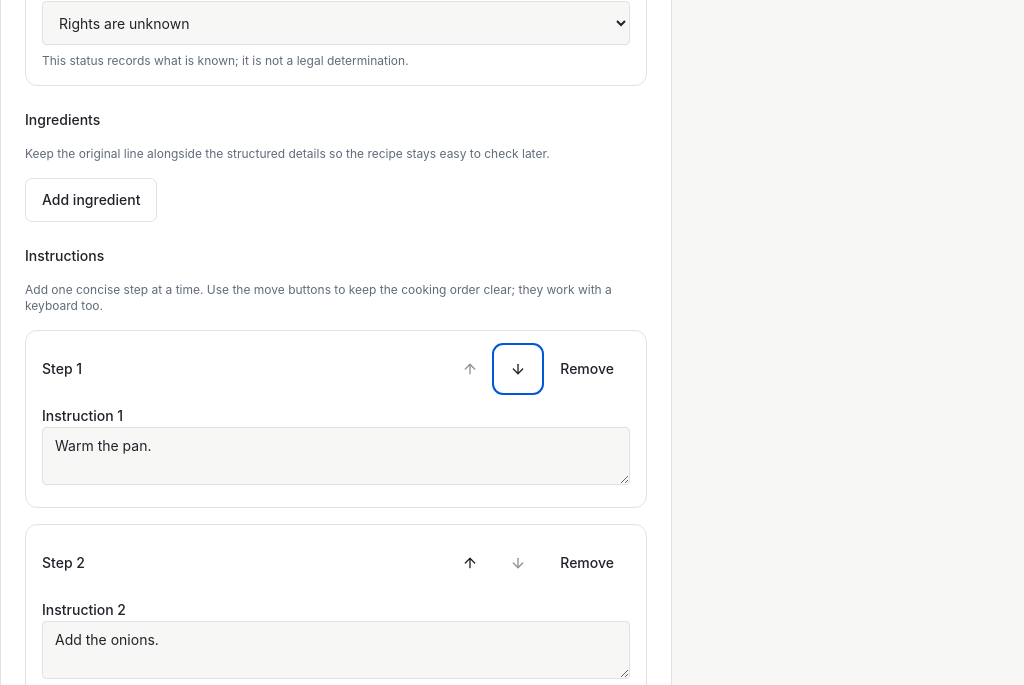
Test: DraftEditor › supports keyboard-friendly step ordering and editing controls
(page scrolled)
Press Enter
(page scrolled)
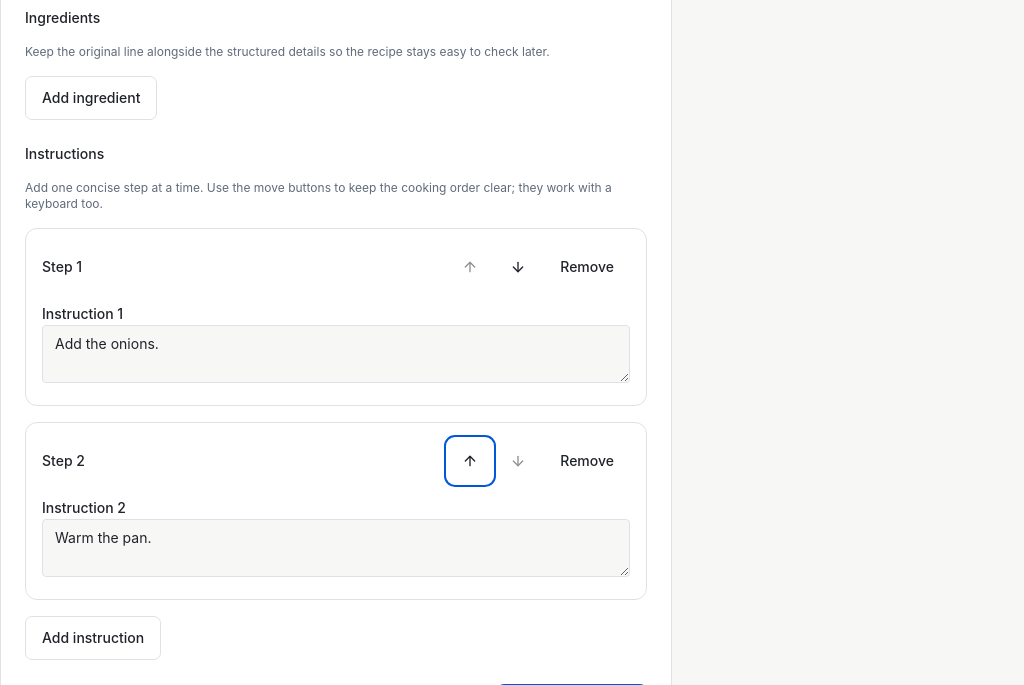
Expected: the text box labelled "Instruction 1" holds "Add the onions.", [42, 325, 630, 383]
Expected: the text box labelled "Instruction 2" holds "Warm the pan.", [42, 519, 630, 577]
Click the button "Add instruction" at (93, 638), box [25, 616, 161, 660]
(page scrolled)
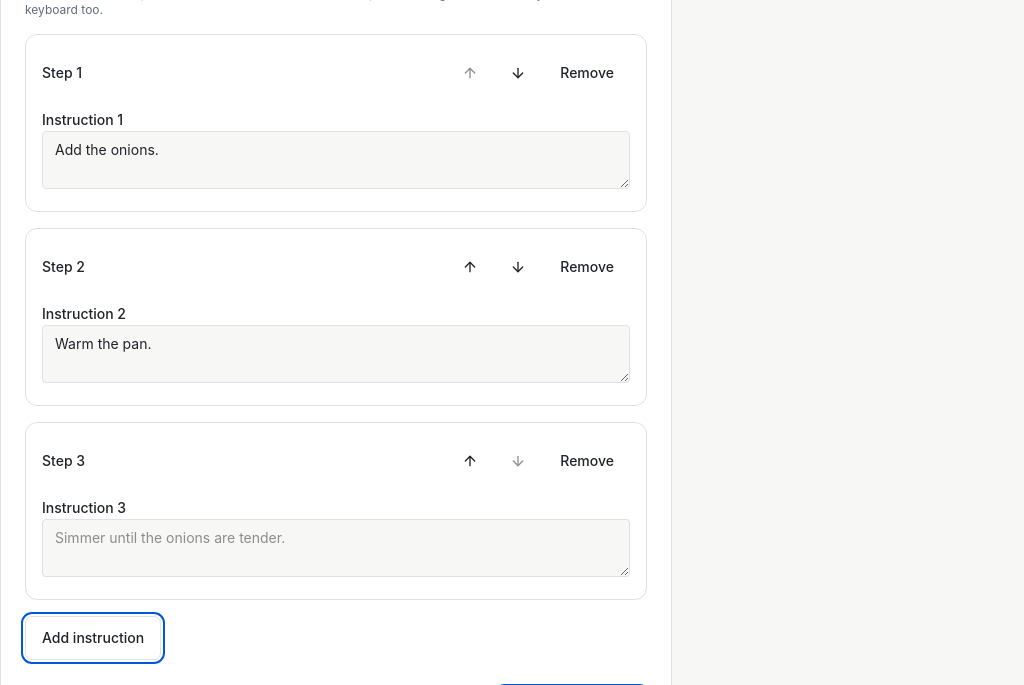
Type "Finish with herbs." into the text box labelled "Instruction 3" at (336, 548), box [42, 519, 630, 577]
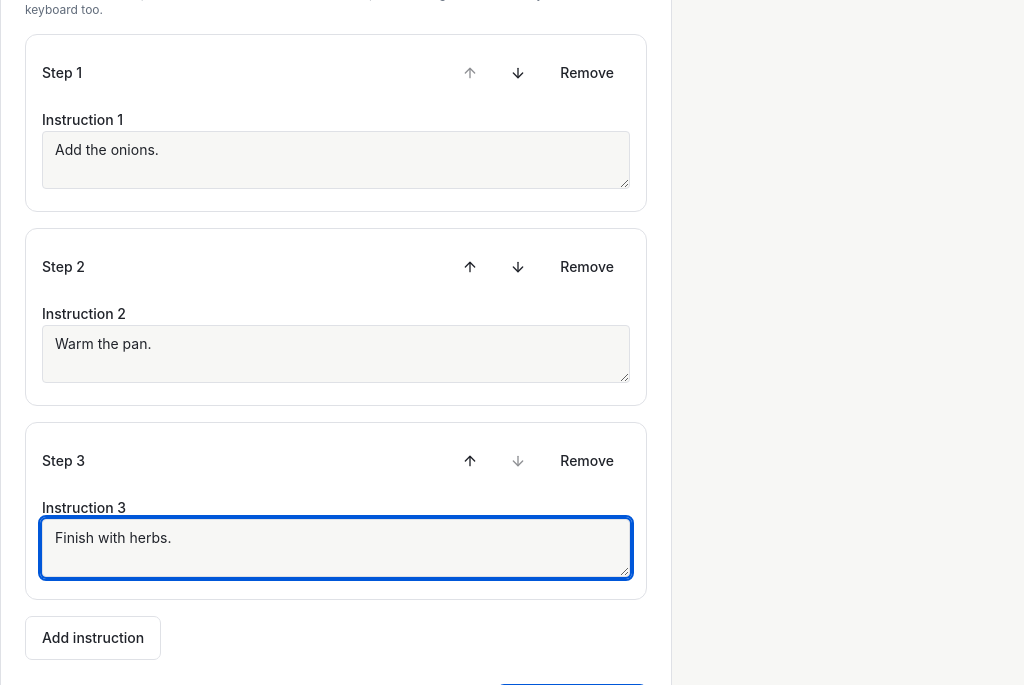
Click the button with aria-label "Remove step 3" at (587, 461), box [544, 439, 630, 483]
(page scrolled)
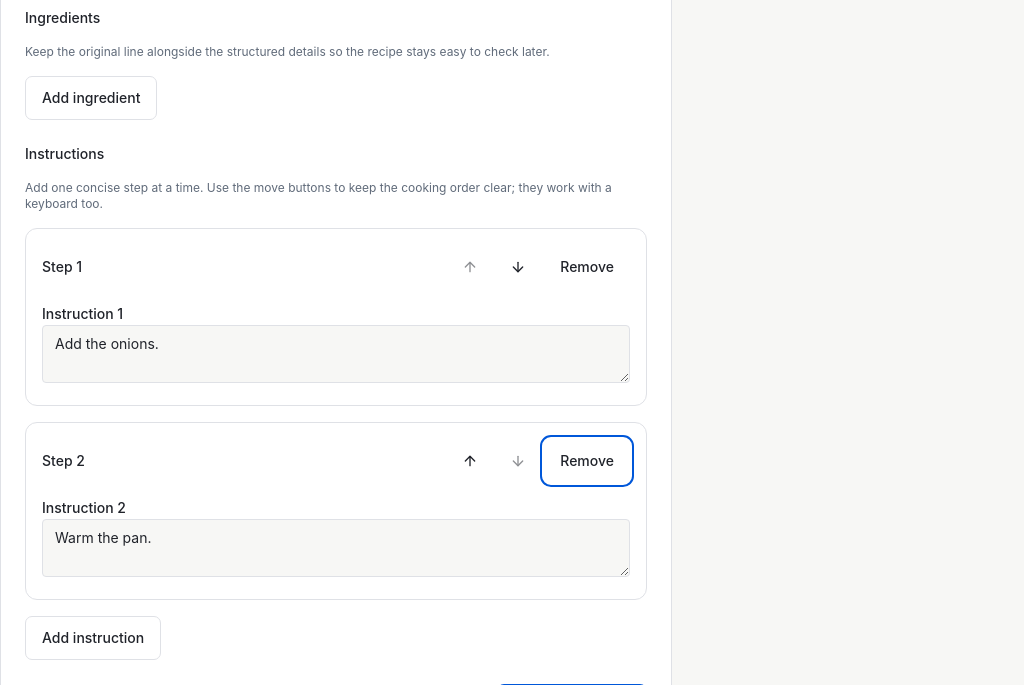
Expected: the label "Instruction 3" is gone
